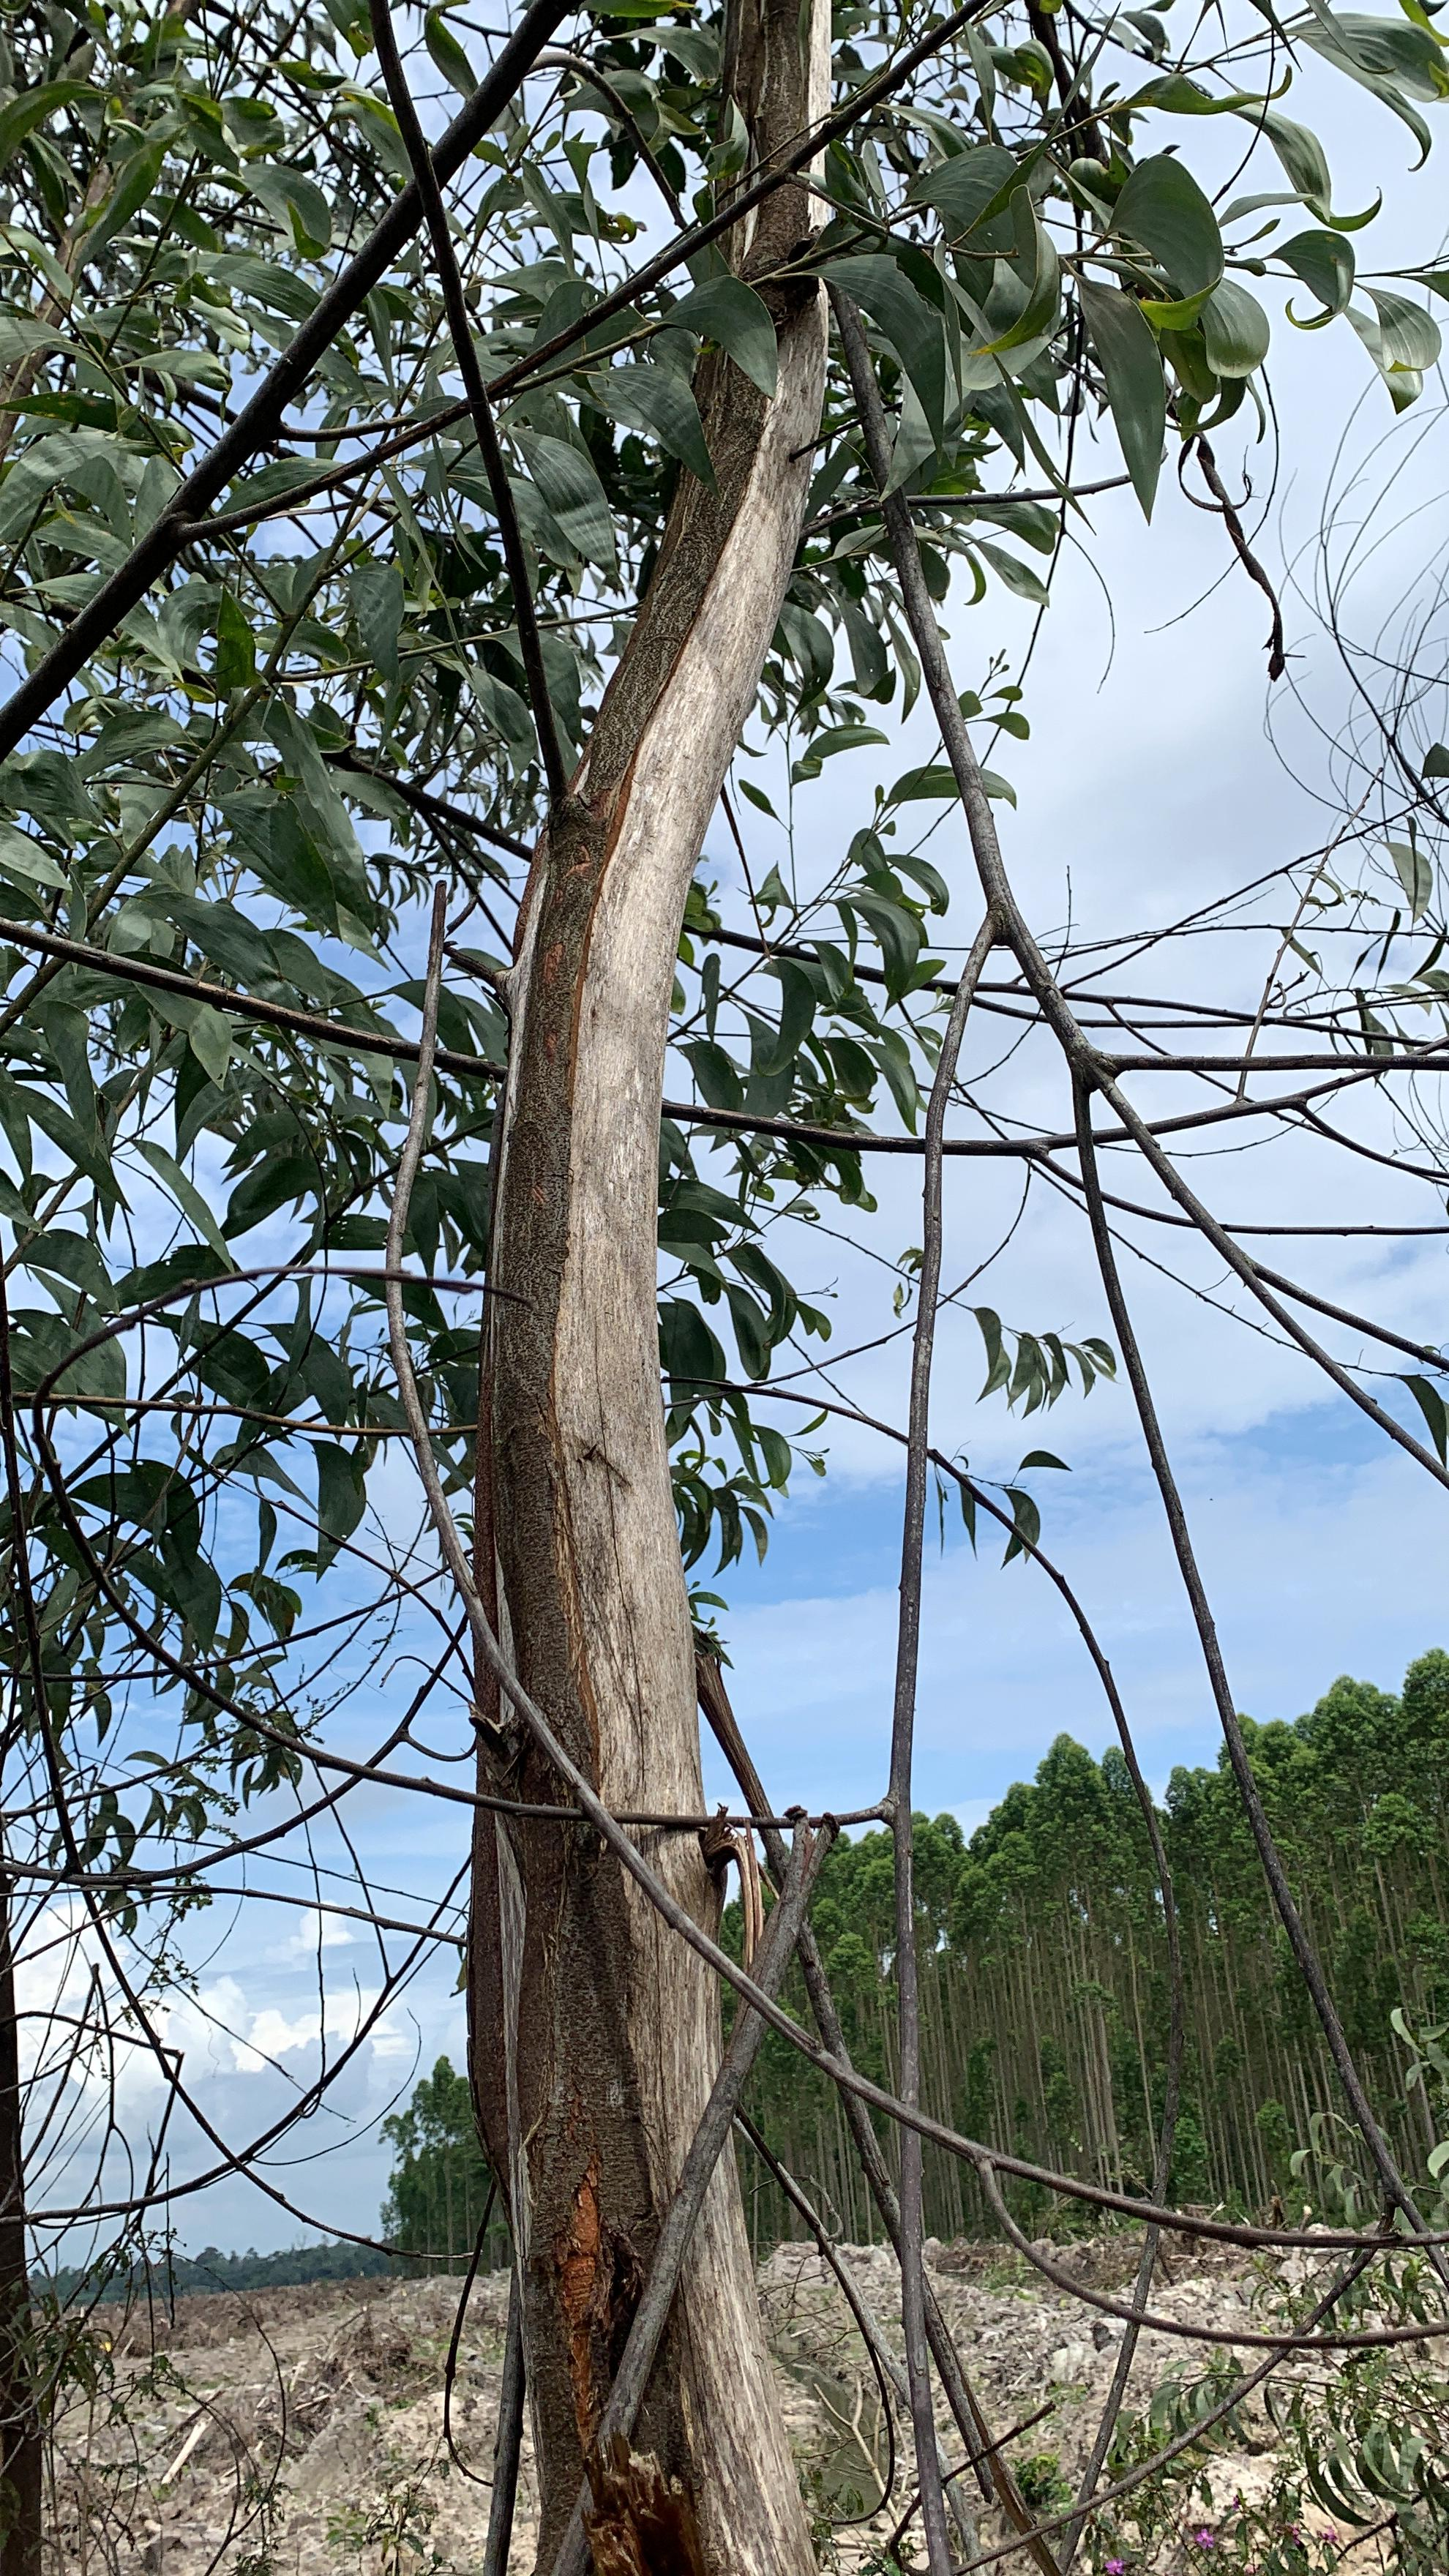Mammals Attack: (506, 19, 883, 1332)
